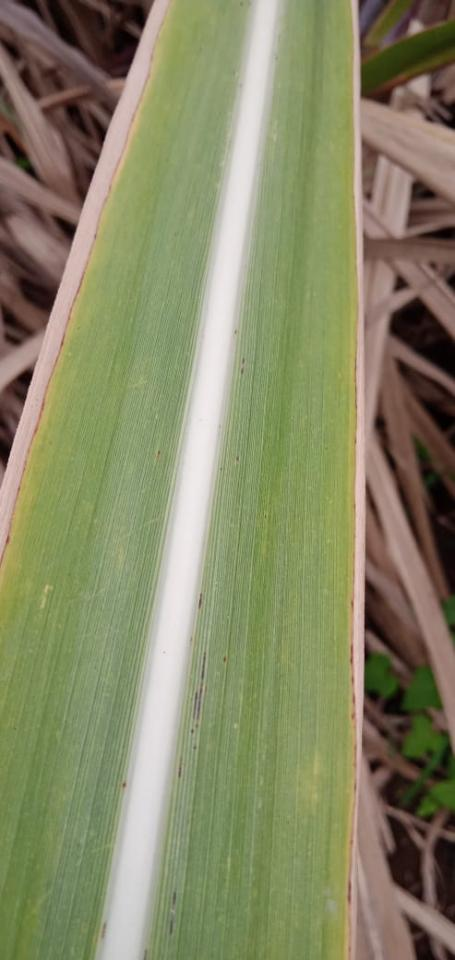Rust: (196, 651, 207, 721), (192, 691, 199, 720), (177, 751, 184, 779), (171, 890, 178, 911), (100, 920, 107, 940), (197, 591, 204, 610), (168, 917, 175, 936), (120, 781, 128, 791), (155, 449, 162, 459), (143, 948, 149, 959), (235, 455, 241, 464), (222, 656, 227, 665), (232, 329, 238, 335), (241, 367, 245, 375), (190, 729, 195, 735), (241, 357, 245, 364), (195, 724, 200, 729), (192, 745, 197, 750)
Yellow: (0, 0, 174, 574), (344, 0, 365, 959)
